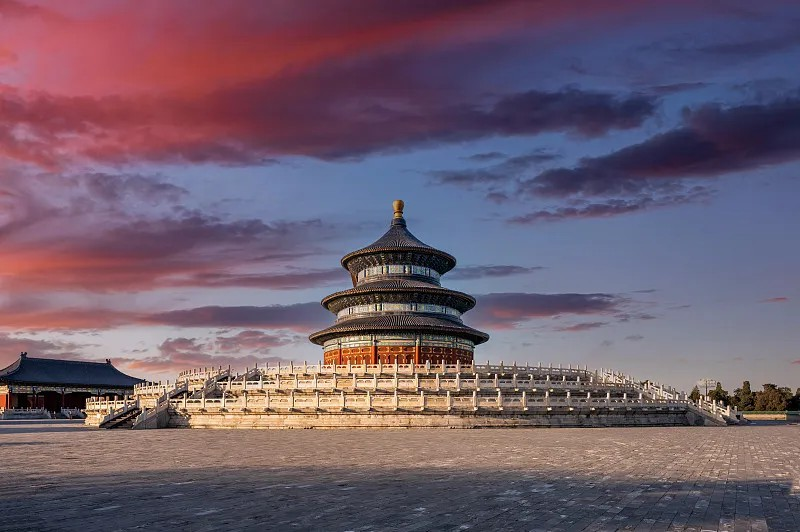Heaven: (309, 199, 490, 366)
